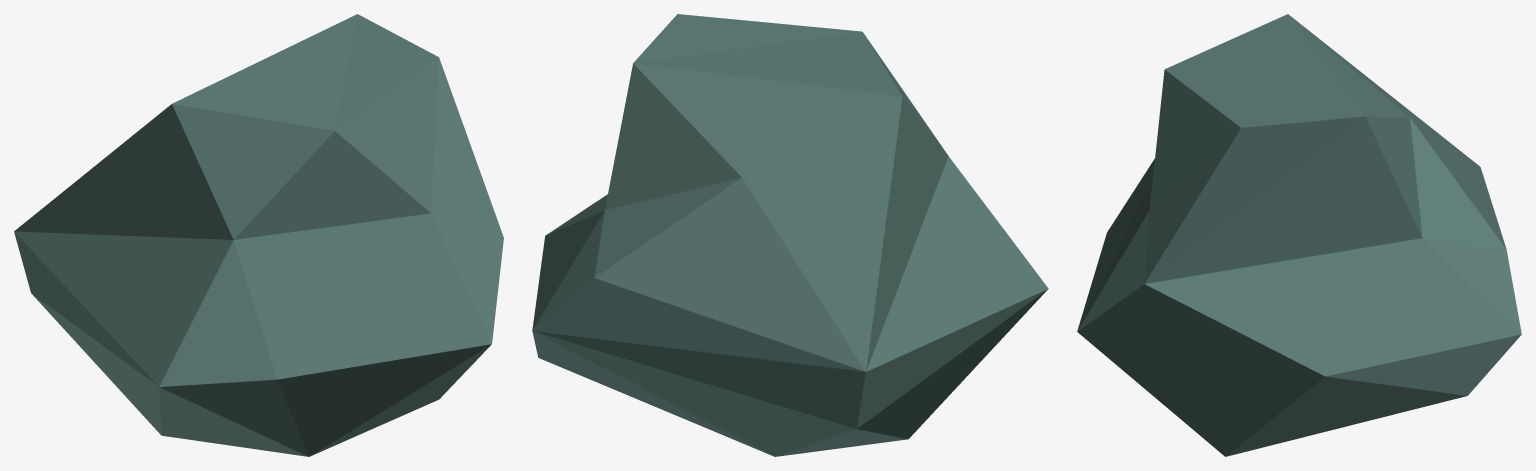
3 views of the same model, side by side, from view 1: azimuth 30°, elevation 25°; view 2: azimuth 150°, elevation 25°; view 3: azimuth 270°, elevation 25° (orthographic). The views are drawn at different scales.
Parts seen in each view (by area): view 1: 石头6; view 2: 石头6; view 3: 石头6.
Boxes of the visible parts, box(x1,y1,x2,y2) form: 石头6: box(14, 14, 503, 456); 石头6: box(532, 14, 1048, 456); 石头6: box(1077, 14, 1521, 456).
Bounding box in the file's own units: 23.45 × 18.63 × 22.22.
